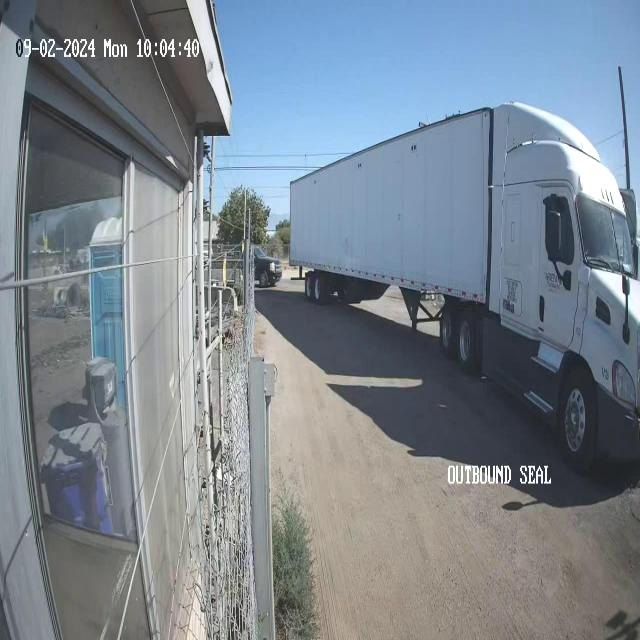CONTAINER: (289, 100, 497, 312)
